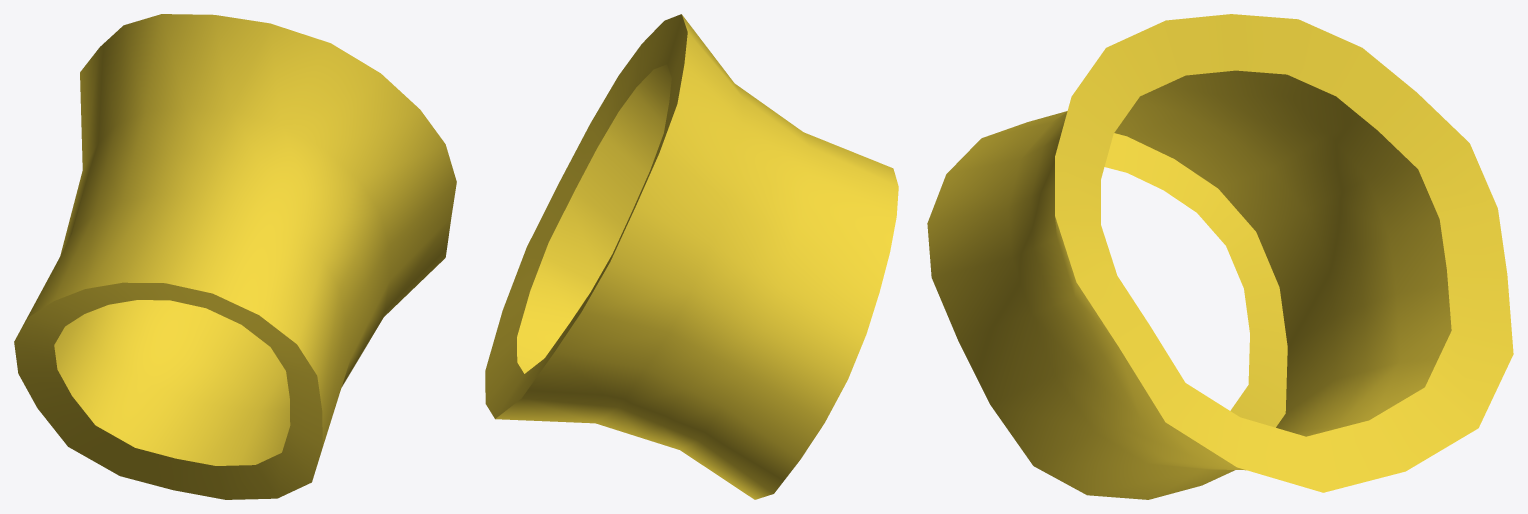
The model's file is bracelet.fbx.
3 views of the same model, side by side, from view 1: azimuth 30°, elevation 25°; view 2: azimuth 150°, elevation 25°; view 3: azimuth 270°, elevation 25° (orthographic). The views are drawn at different scales.
Parts seen in each view (by area): view 1: Box001; view 2: Box001; view 3: Box001.
Part boxes in pixels (left/top/right/bottom): Box001: left=14, top=14, right=456, bottom=499; Box001: left=485, top=14, right=898, bottom=499; Box001: left=927, top=14, right=1513, bottom=499.
Bounding box in the file's own units: 3.51 × 3.92 × 4.09.
